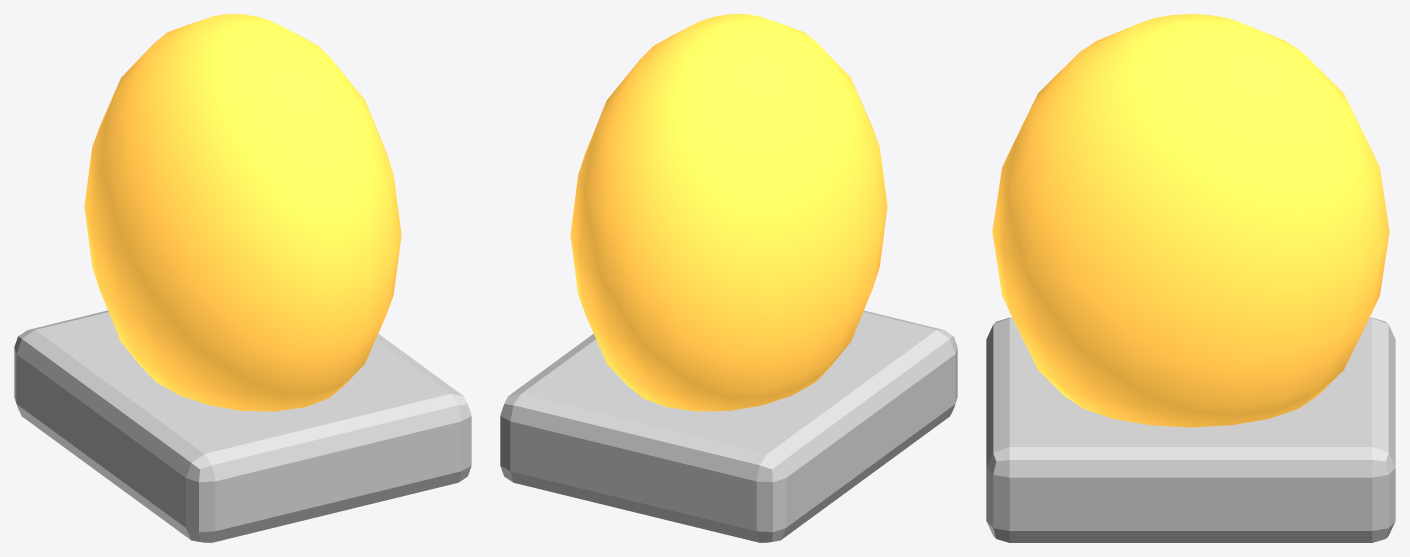
Rendered from SM_Art_AmberFossil.fbx.
The picture shows the model from 3 angles, left to right: view 1: azimuth 30°, elevation 25°; view 2: azimuth 150°, elevation 25°; view 3: azimuth 270°, elevation 25°; orthographic projection. The views are drawn at different scales.
Visible parts, largest first — view 1: Amber, Stone; view 2: Amber, Stone; view 3: Amber, Stone.
Boxes of the visible parts, x1,y1,x2,y2 form: Amber: (84,14,401,411); Stone: (14,310,471,542); Amber: (570,14,887,411); Stone: (500,310,957,542); Amber: (992,14,1389,427); Stone: (986,317,1395,542).
Bounding box in the file's own units: 0.12 × 0.1712 × 0.14.
